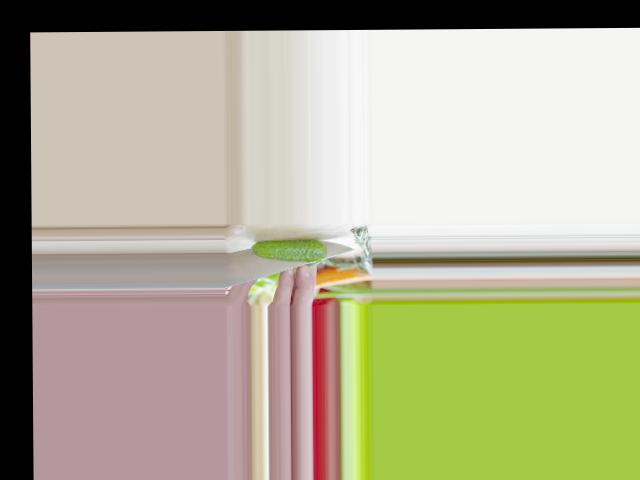cucumber: (252, 238, 327, 261)
